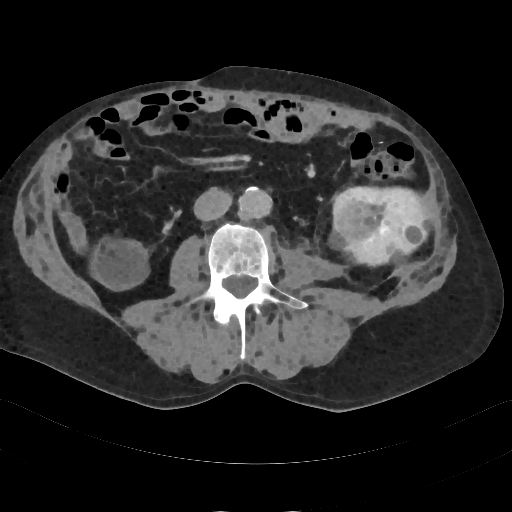Lesion: (331, 201, 387, 245)
